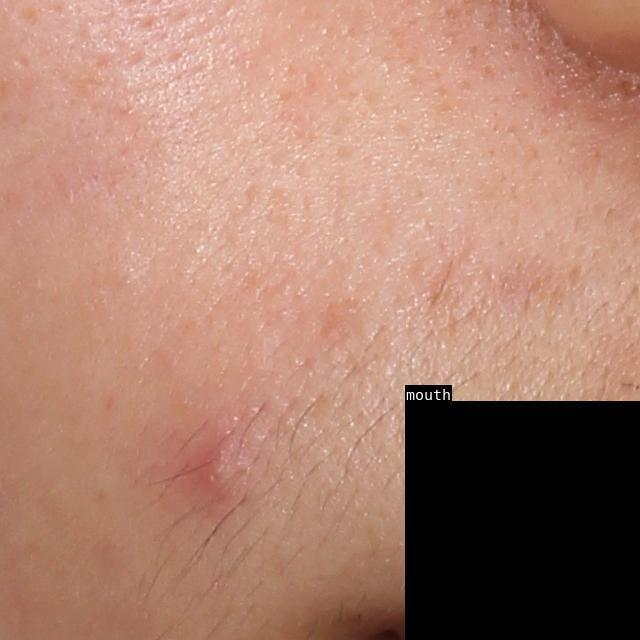papule: (181, 411, 269, 518)
